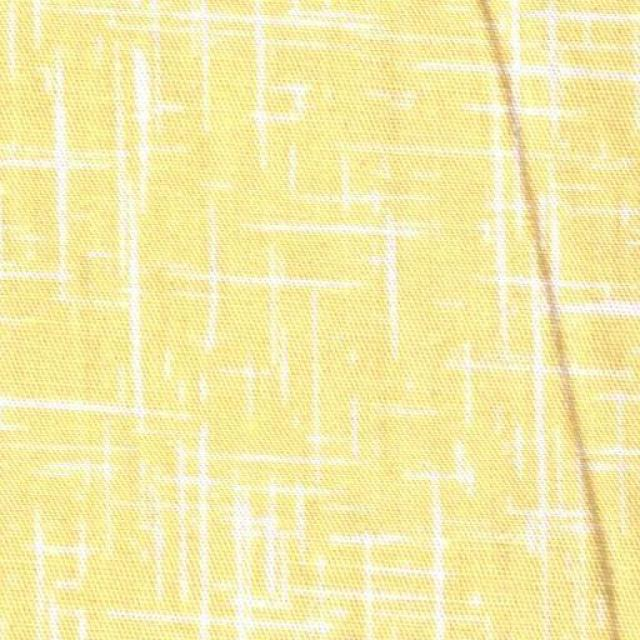broken_yarn: (471, 0, 624, 639)
